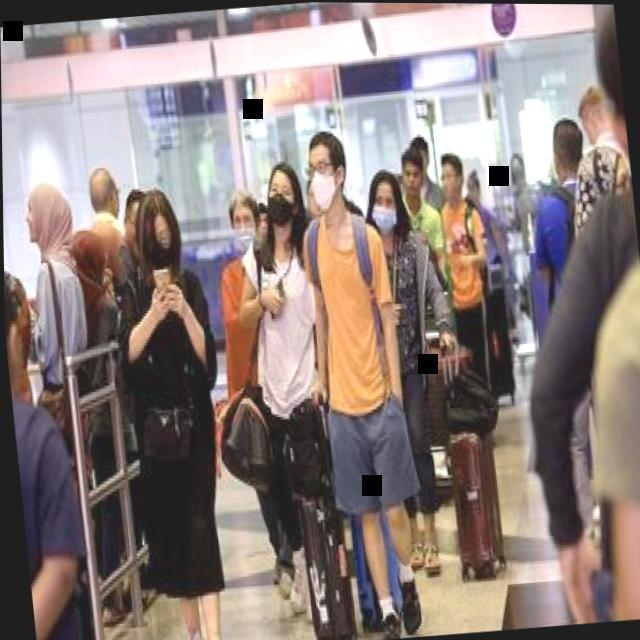Mask: (307, 148, 341, 212), (264, 176, 298, 230), (144, 217, 176, 273), (370, 180, 398, 235), (230, 205, 257, 254), (510, 156, 525, 181)
NO-Mask: (4, 320, 27, 387), (21, 196, 46, 241), (127, 207, 145, 263), (439, 165, 462, 201), (107, 179, 124, 221), (579, 111, 597, 148), (403, 162, 422, 195), (306, 179, 321, 214), (254, 212, 267, 240), (467, 179, 479, 201)
